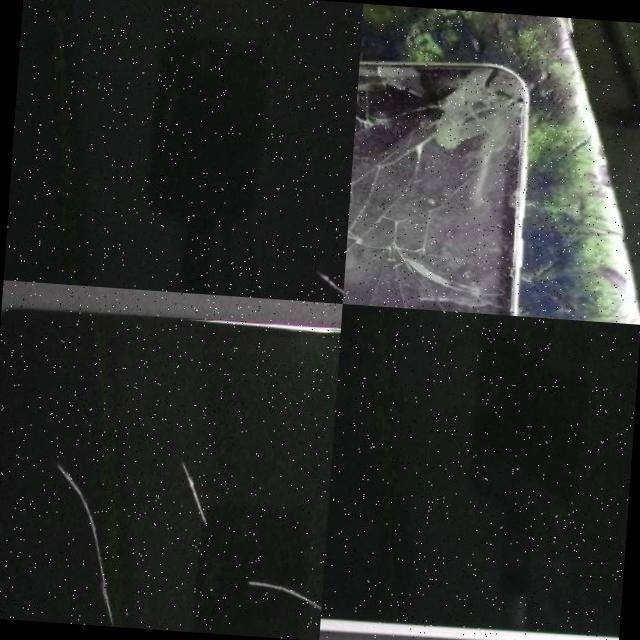scratch: (37, 456, 136, 628), (237, 559, 323, 640), (160, 450, 217, 536), (310, 264, 344, 302)
screen crack: (342, 48, 568, 317)
